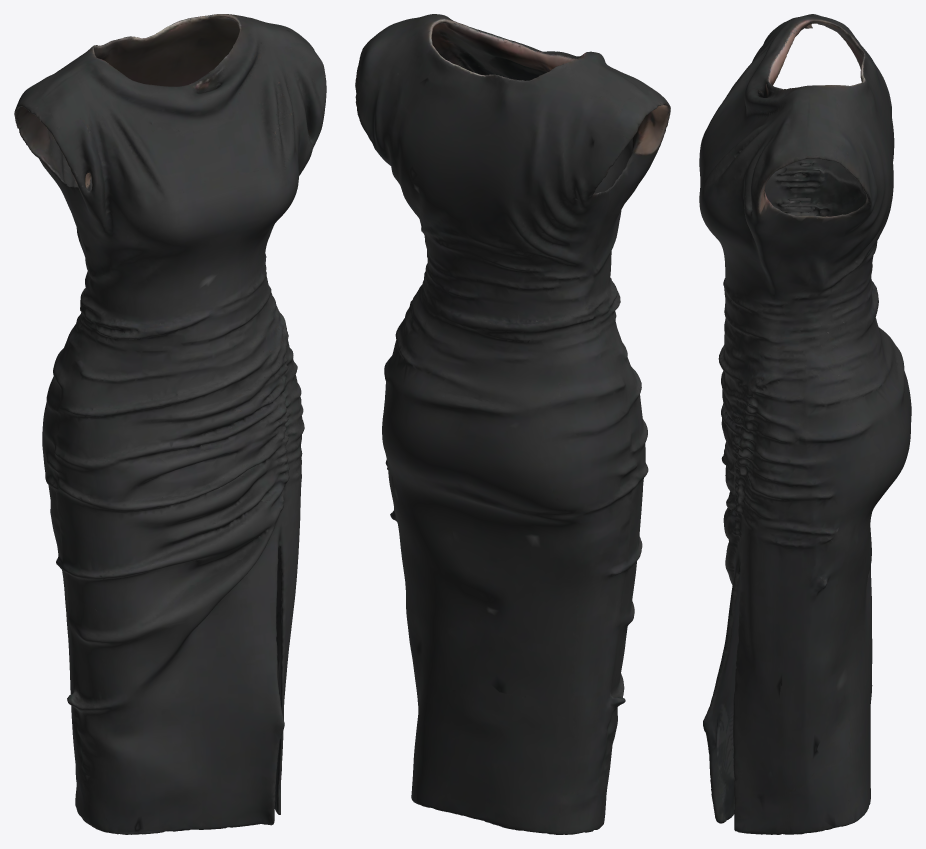
Rendered from test-elbise.min.glb.
3 renders of one model, left to right at view 1: azimuth 30°, elevation 25°; view 2: azimuth 150°, elevation 25°; view 3: azimuth 270°, elevation 25°, orthographic. The views are drawn at different scales.
Bounding box in the file's own units: 0.7691 × 2 × 0.5152.
Materials: 1 (1 with a texture image).
